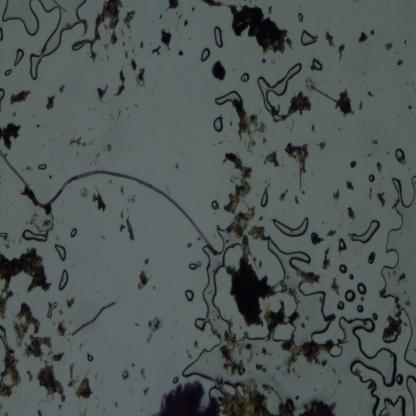Air bubble: (179, 317, 396, 414), (266, 240, 336, 343), (380, 174, 416, 369), (194, 226, 244, 346), (29, 0, 88, 81), (257, 63, 302, 124), (3, 1, 41, 35), (272, 215, 308, 238), (349, 220, 381, 244), (379, 393, 408, 415), (404, 374, 416, 414), (214, 90, 243, 105), (21, 228, 49, 242), (299, 29, 319, 45), (213, 24, 224, 50), (57, 269, 69, 292), (45, 302, 59, 319), (394, 148, 407, 166), (13, 48, 25, 66), (212, 115, 224, 133), (54, 244, 66, 262), (343, 289, 357, 304), (72, 39, 89, 51), (312, 56, 324, 72), (356, 282, 368, 298), (259, 188, 268, 209), (199, 47, 211, 62), (210, 198, 222, 212), (336, 237, 347, 252), (185, 289, 195, 303), (396, 372, 404, 388), (240, 72, 251, 83), (188, 260, 198, 272), (70, 226, 78, 239), (337, 299, 345, 312), (356, 304, 366, 314), (38, 161, 48, 171), (339, 264, 348, 275), (172, 374, 180, 386), (367, 173, 376, 183), (184, 240, 194, 249), (371, 312, 379, 322), (0, 26, 5, 42), (297, 12, 304, 23), (0, 88, 5, 102), (4, 69, 12, 76)
Background material: (224, 255, 276, 327), (226, 2, 294, 56), (0, 246, 53, 294), (90, 0, 124, 62), (305, 77, 355, 118), (221, 151, 253, 213), (71, 298, 118, 338), (282, 339, 334, 372), (232, 104, 269, 150), (0, 326, 23, 396), (220, 383, 268, 416), (10, 303, 43, 347), (282, 140, 309, 191), (260, 306, 299, 338), (219, 332, 247, 376), (36, 363, 66, 403), (226, 205, 258, 236), (300, 398, 338, 416), (288, 90, 311, 118), (143, 316, 164, 346), (0, 278, 14, 322), (0, 121, 21, 150), (91, 186, 108, 214), (9, 88, 34, 107), (394, 294, 405, 332), (210, 60, 228, 82), (112, 69, 126, 97), (158, 27, 173, 52), (76, 377, 93, 399), (277, 396, 295, 415), (250, 225, 269, 243), (69, 135, 94, 148), (264, 148, 280, 168), (321, 248, 332, 276), (136, 271, 150, 291), (67, 362, 78, 387), (382, 329, 400, 344), (201, 0, 227, 10), (124, 215, 134, 241), (124, 9, 136, 30), (329, 276, 341, 296), (57, 318, 69, 338), (309, 232, 325, 246), (134, 68, 146, 86), (51, 349, 65, 364), (0, 232, 11, 250), (96, 85, 109, 100), (326, 29, 336, 48), (255, 362, 268, 376), (43, 94, 56, 108), (376, 191, 386, 209), (366, 251, 378, 266), (337, 44, 346, 62), (346, 206, 356, 222), (330, 186, 340, 202), (247, 343, 254, 365), (42, 336, 53, 350), (278, 188, 290, 200), (65, 297, 77, 309), (316, 139, 328, 151), (169, 0, 181, 12), (358, 30, 368, 44), (24, 371, 34, 385), (367, 184, 375, 201), (129, 57, 138, 72), (345, 180, 356, 192), (151, 44, 162, 56), (325, 228, 338, 238), (141, 385, 152, 396), (104, 142, 114, 154), (398, 272, 407, 285), (79, 187, 89, 198), (181, 17, 190, 29), (121, 369, 130, 381), (139, 369, 147, 382), (262, 348, 272, 358), (384, 41, 393, 52), (138, 39, 145, 52), (58, 83, 66, 94), (173, 161, 181, 172), (350, 159, 358, 170), (375, 162, 383, 173), (370, 137, 379, 146), (358, 101, 364, 113), (119, 222, 125, 234), (310, 122, 316, 134), (143, 256, 150, 266), (294, 194, 300, 205), (368, 29, 376, 37), (396, 58, 404, 66), (403, 37, 409, 47), (368, 90, 375, 98), (120, 209, 124, 222), (88, 354, 94, 362), (407, 103, 413, 111), (120, 184, 124, 194), (178, 50, 183, 56)
Microfibre: (0, 152, 218, 256)
Pen: (154, 378, 206, 416)
